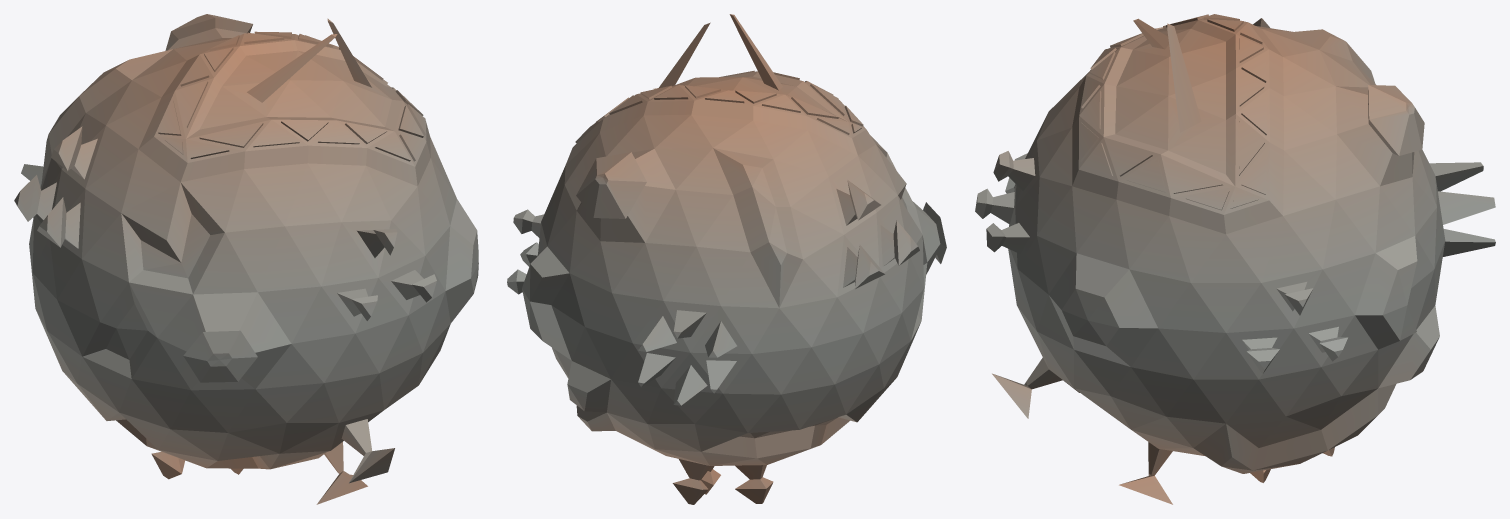
Rendered from Industrial_Planet_Stage1.FBX.
The picture shows the model from 3 angles, left to right: view 1: azimuth 30°, elevation 25°; view 2: azimuth 150°, elevation 25°; view 3: azimuth 270°, elevation 25°; orthographic projection. The views are drawn at different scales.
Parts seen in each view (by area): view 1: Industrial_Stage_2; view 2: Industrial_Stage_2; view 3: Industrial_Stage_2.
Part boxes in pixels (x1,y1,x2,y2): Industrial_Stage_2: (14, 14, 478, 504); Industrial_Stage_2: (507, 14, 946, 504); Industrial_Stage_2: (975, 14, 1495, 504).
Size of the model in its own units: 88.1 by 96.5 by 95.05.
